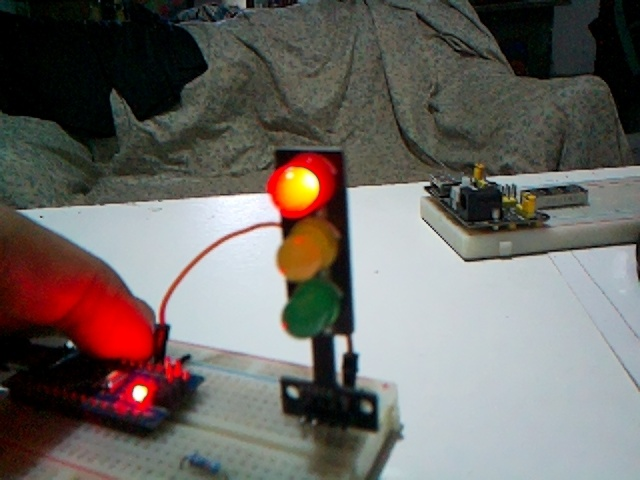traffic_light_red: (270, 149, 376, 430)
